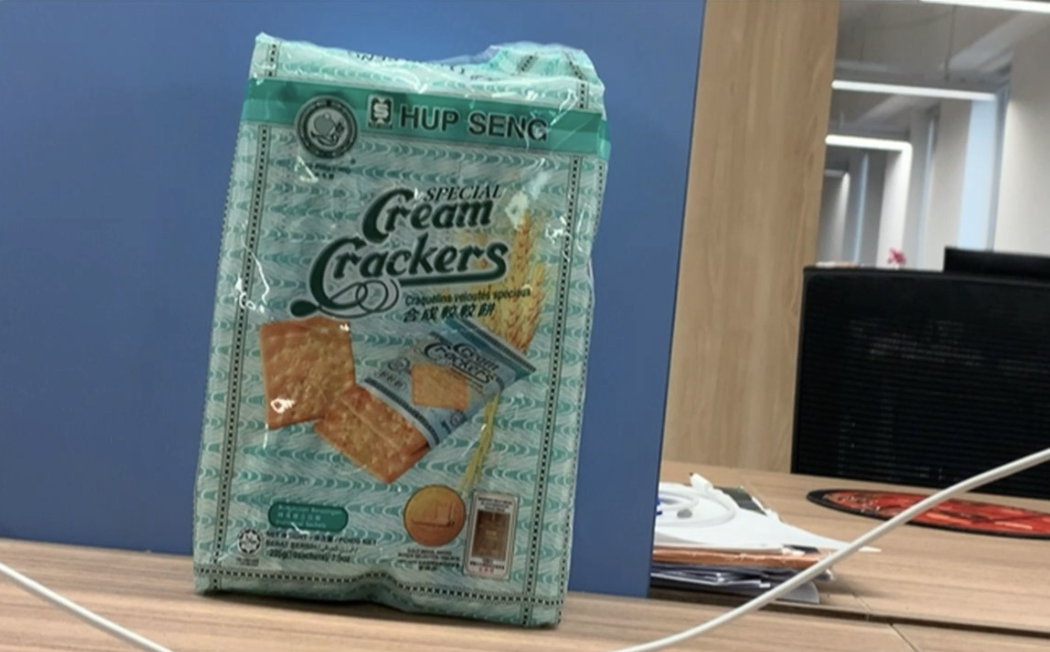crackers_200g-299g: (234, 85, 558, 585)
